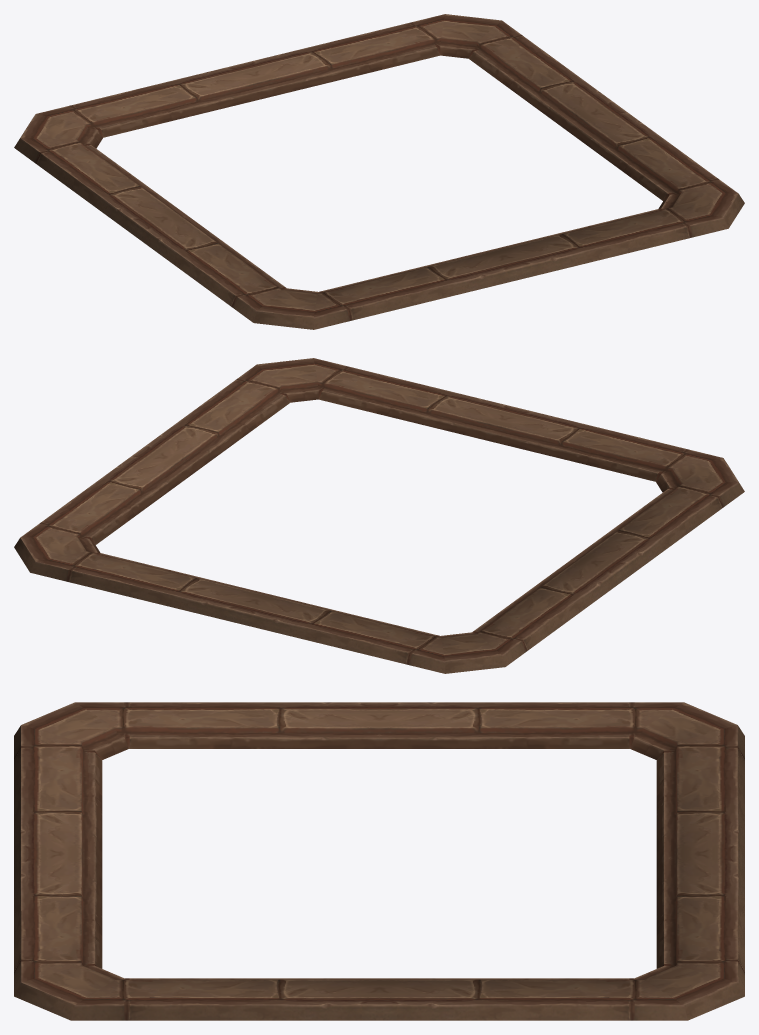
The model's file is huoshan_Ground_pvp_06.FBX.
3 views of the same model, one above another, from view 1: azimuth 30°, elevation 25°; view 2: azimuth 150°, elevation 25°; view 3: azimuth 270°, elevation 25° (orthographic). The views are drawn at different scales.
Parts seen in each view (by area): view 1: huoshan_Ground_pvp_06; view 2: huoshan_Ground_pvp_06; view 3: huoshan_Ground_pvp_06.
Part boxes in pixels (x1,y1,x2,y2): huoshan_Ground_pvp_06: (14, 14, 744, 329); huoshan_Ground_pvp_06: (14, 358, 744, 673); huoshan_Ground_pvp_06: (14, 702, 744, 1020).
Size of the model in its own units: 1180 by 22.11 by 1180.
